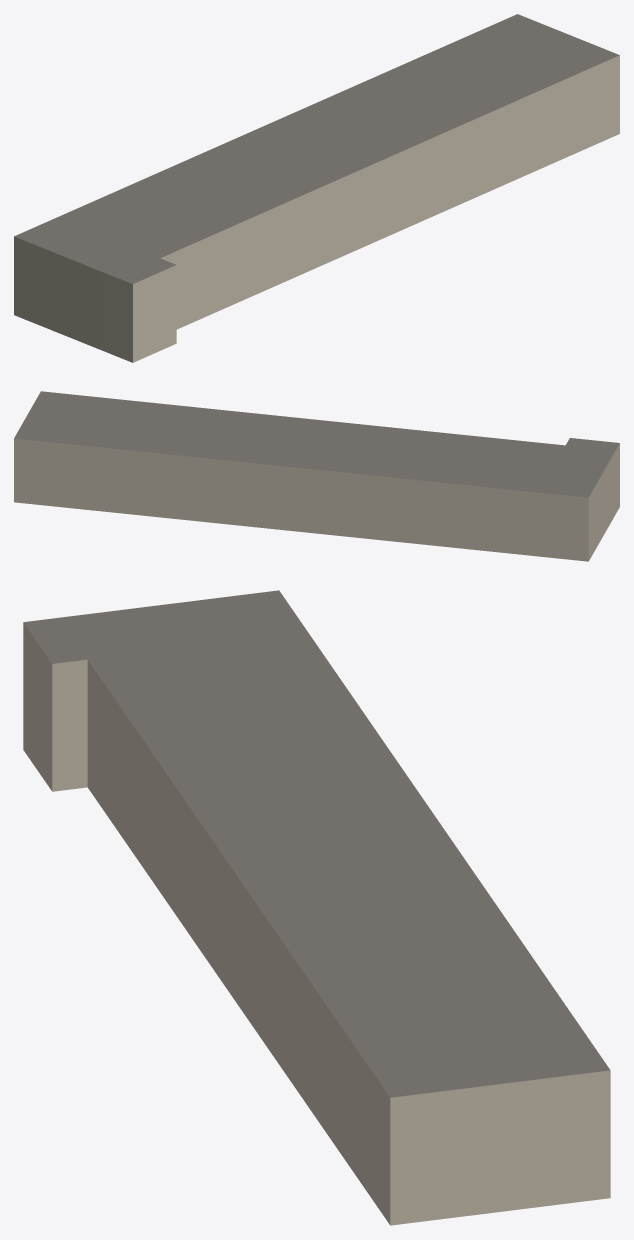
3 views of the same model, one above another, from view 1: azimuth 30°, elevation 25°; view 2: azimuth 150°, elevation 25°; view 3: azimuth 270°, elevation 25° (orthographic). The views are drawn at different scales.
Parts seen in each view (by area): view 1: HP-w292719675; view 2: HP-w292719675; view 3: HP-w292719675.
Part boxes in pixels (x1,y1,x2,y2): HP-w292719675: [14, 14, 619, 362]; HP-w292719675: [14, 391, 619, 561]; HP-w292719675: [23, 590, 610, 1225].
Size of the model in its own units: 102 by 12 by 49.96.
